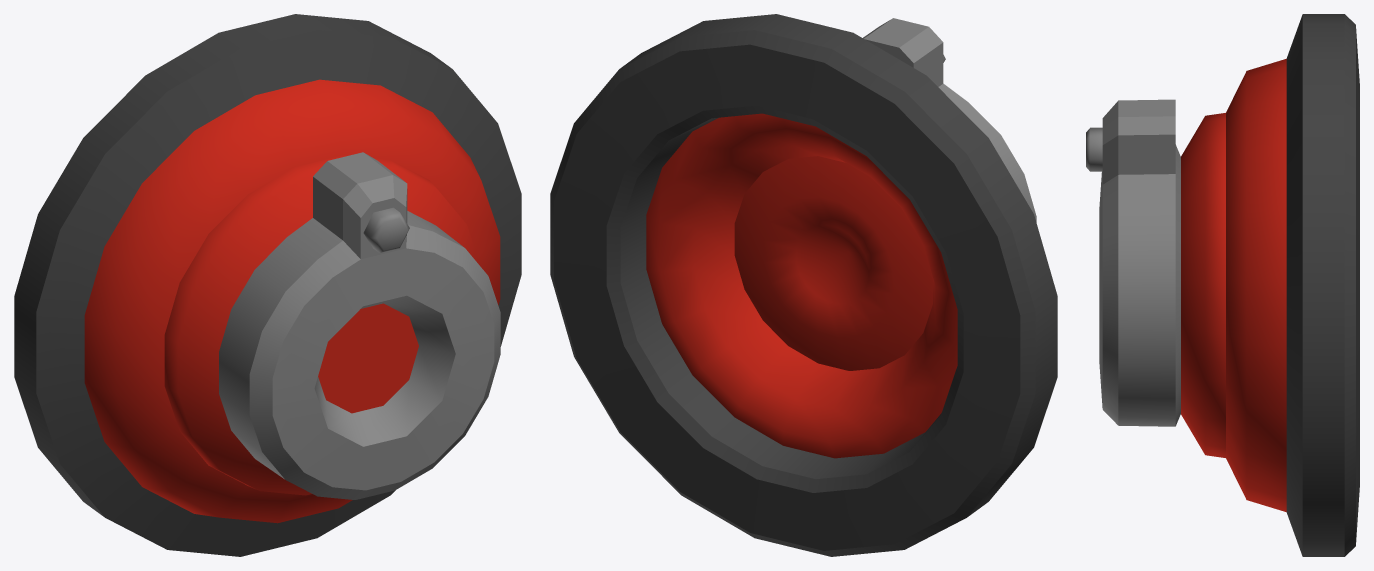
Rendered from Hook.fbx.
3 views of the same model, side by side, from view 1: azimuth 30°, elevation 25°; view 2: azimuth 150°, elevation 25°; view 3: azimuth 270°, elevation 25° (orthographic). The views are drawn at different scales.
Parts seen in each view (by area): view 1: Hook; view 2: Hook; view 3: Hook.
Part boxes in pixels (x1,y1,x2,y2): Hook: (14,14,521,556); Hook: (550,14,1057,556); Hook: (1086,14,1359,556).
Bounding box in the file's own units: 34.2 × 34.2 × 17.46.
